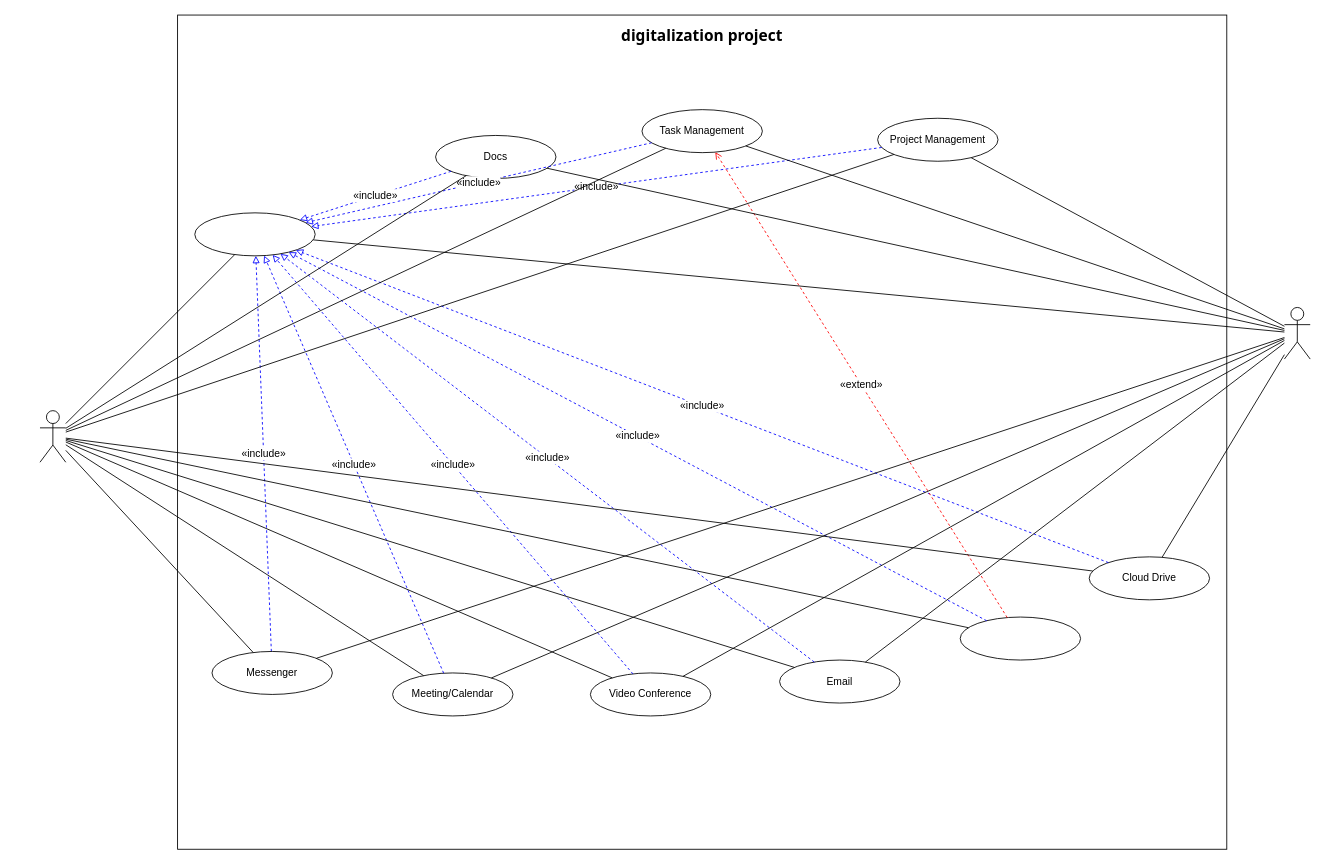
Image size: 1331x864. Some labels were removed from this diagram. Here are the shapes that lost their labels. From the top down, the box of each, then its label:
(194, 212, 315, 256): Login/Logout
(1284, 307, 1310, 359): Member
(39, 410, 66, 462): Project Manager
(959, 616, 1081, 660): Approvals
